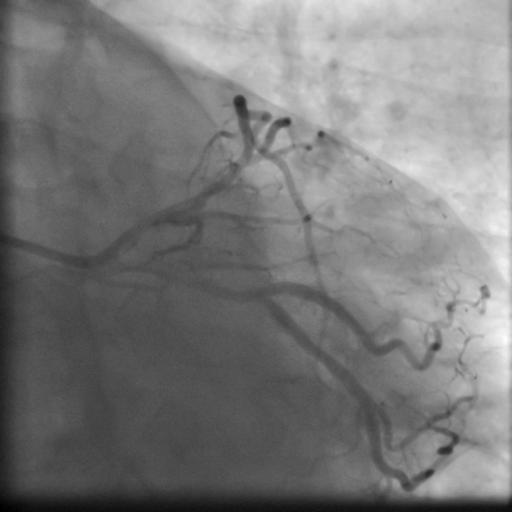Stenosis: (126, 210, 166, 232)
